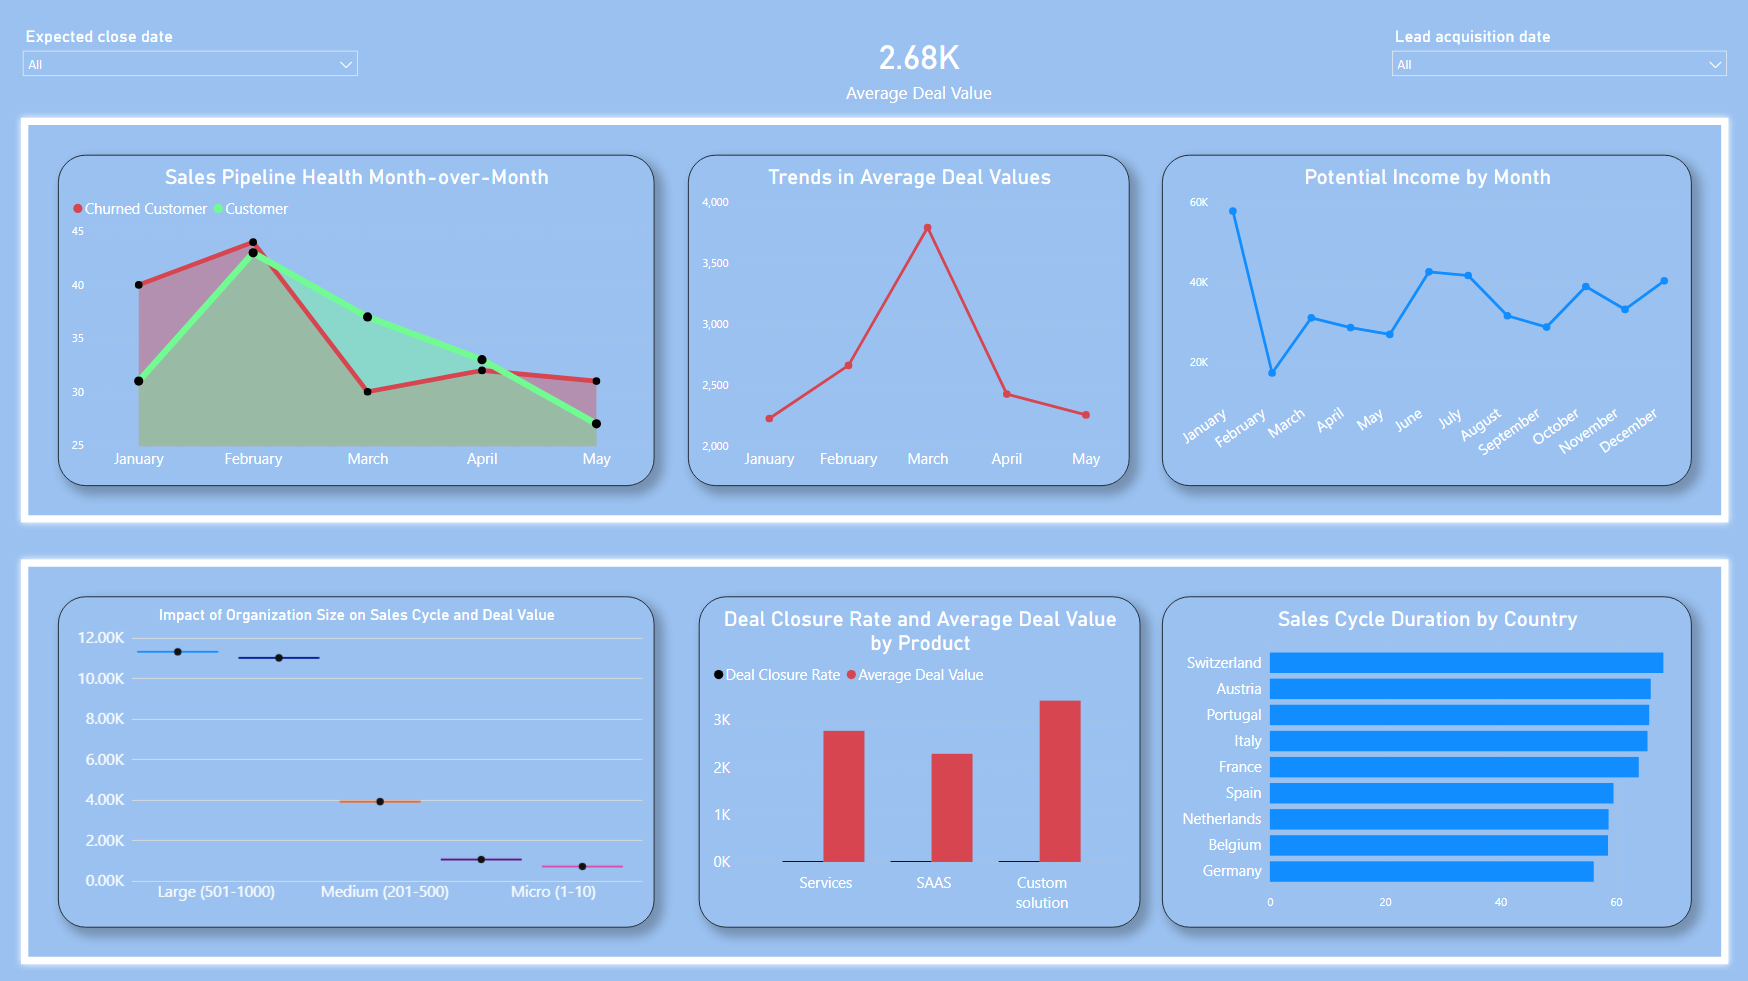

This screenshot's page, from the dashboard's own definition file:
{"tool":"powerbi","page":{"name":"View","canvas":[1920,1080],"ordinal":1},"visuals":[{"type":"shape","box":[24,120,1872,456],"z":0},{"type":"lineChart","title":"Sales Pipeline Health Month-over-Month","fields":{"Category":["CRM_data.Lead acquisition date.Variation.Date Hierarchy.Month"],"Y":["CRM_data.Leads by Month"],"Series":["CRM_data.Status"]},"box":[72,168,648,360],"z":1000},{"type":"shape","box":[24,600,1872,456],"z":1500},{"type":"lineChart","title":"Trends in Average Deal Values","fields":{"Category":["CRM_data.Lead acquisition date.Variation.Date Hierarchy.Month"],"Y":["CRM_data.Average Deal Value"]},"box":[756,168,480,360],"z":2000},{"type":"lineChart","fields":{"Category":["CRM_data.Expected close date.Variation.Date Hierarchy.Month"],"Y":["CRM_data.Potential Income"]},"box":[1272,168,576,360],"z":3000},{"type":"BoxWhiskerChart1455240051538","title":"Impact of Organization Size on Sales Cycle and Deal Value","fields":{"Groups":["CRM_data.Organization size"],"Values":["CRM_data.Average Deal Value"]},"box":[72,648,648,360],"z":5000},{"type":"clusteredColumnChart","fields":{"Category":["CRM_data.Product"],"Y":["CRM_data.Deal Closure Rate","CRM_data.Average Deal Value"]},"box":[768,648,480,360],"z":5001},{"type":"clusteredBarChart","fields":{"Category":["CRM_data.Country"],"Y":["CRM_data.Sales Cycle Duration"]},"box":[1272,648,576,360],"z":5002},{"type":"slicer","fields":{"Values":["CRM_data.Expected close date"]},"box":[24,24,384,96],"z":5003},{"type":"slicer","fields":{"Values":["CRM_data.Lead acquisition date"]},"box":[1512,24,384,96],"z":5004},{"type":"card","fields":{"Values":["CRM_data.Average Deal Value"]},"box":[864,24,288,96],"z":5005}]}

Visuals, with their boxes in screenshot pixels (x1, y1, x2, y2), scaled from the page's 1920x1080 canvas onto the 1748x981 screenshot:
shape: left=22, top=109, right=1726, bottom=523
"Sales Pipeline Health Month-over-Month" lineChart: left=66, top=153, right=656, bottom=480
shape: left=22, top=545, right=1726, bottom=959
"Trends in Average Deal Values" lineChart: left=688, top=153, right=1125, bottom=480
lineChart - CRM_data.Expected close date.Variation.Date Hierarchy.Month x CRM_data.Potential Income: left=1158, top=153, right=1682, bottom=480
"Impact of Organization Size on Sales Cycle and Deal Value" BoxWhiskerChart1455240051538: left=66, top=589, right=656, bottom=916
clusteredColumnChart - CRM_data.Product x CRM_data.Deal Closure Rate: left=699, top=589, right=1136, bottom=916
clusteredBarChart - CRM_data.Country x CRM_data.Sales Cycle Duration: left=1158, top=589, right=1682, bottom=916
slicer - CRM_data.Expected close date: left=22, top=22, right=371, bottom=109
slicer - CRM_data.Lead acquisition date: left=1377, top=22, right=1726, bottom=109
card - CRM_data.Average Deal Value: left=787, top=22, right=1049, bottom=109
